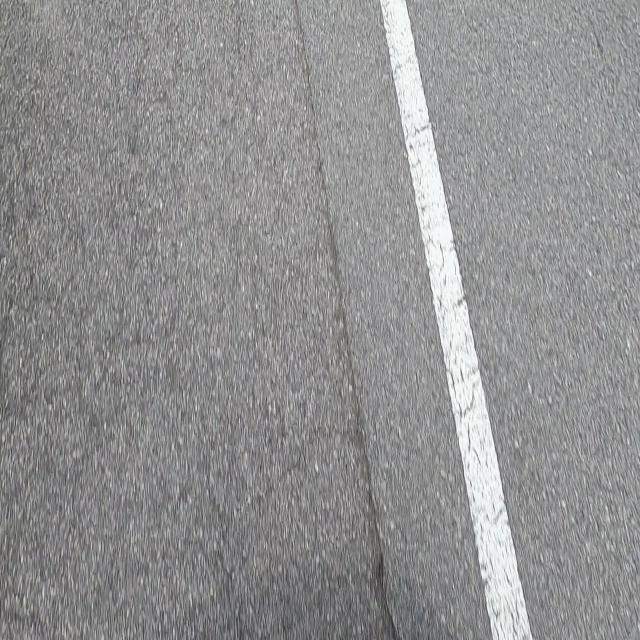Retak-Memanjang: (294, 3, 402, 640)
